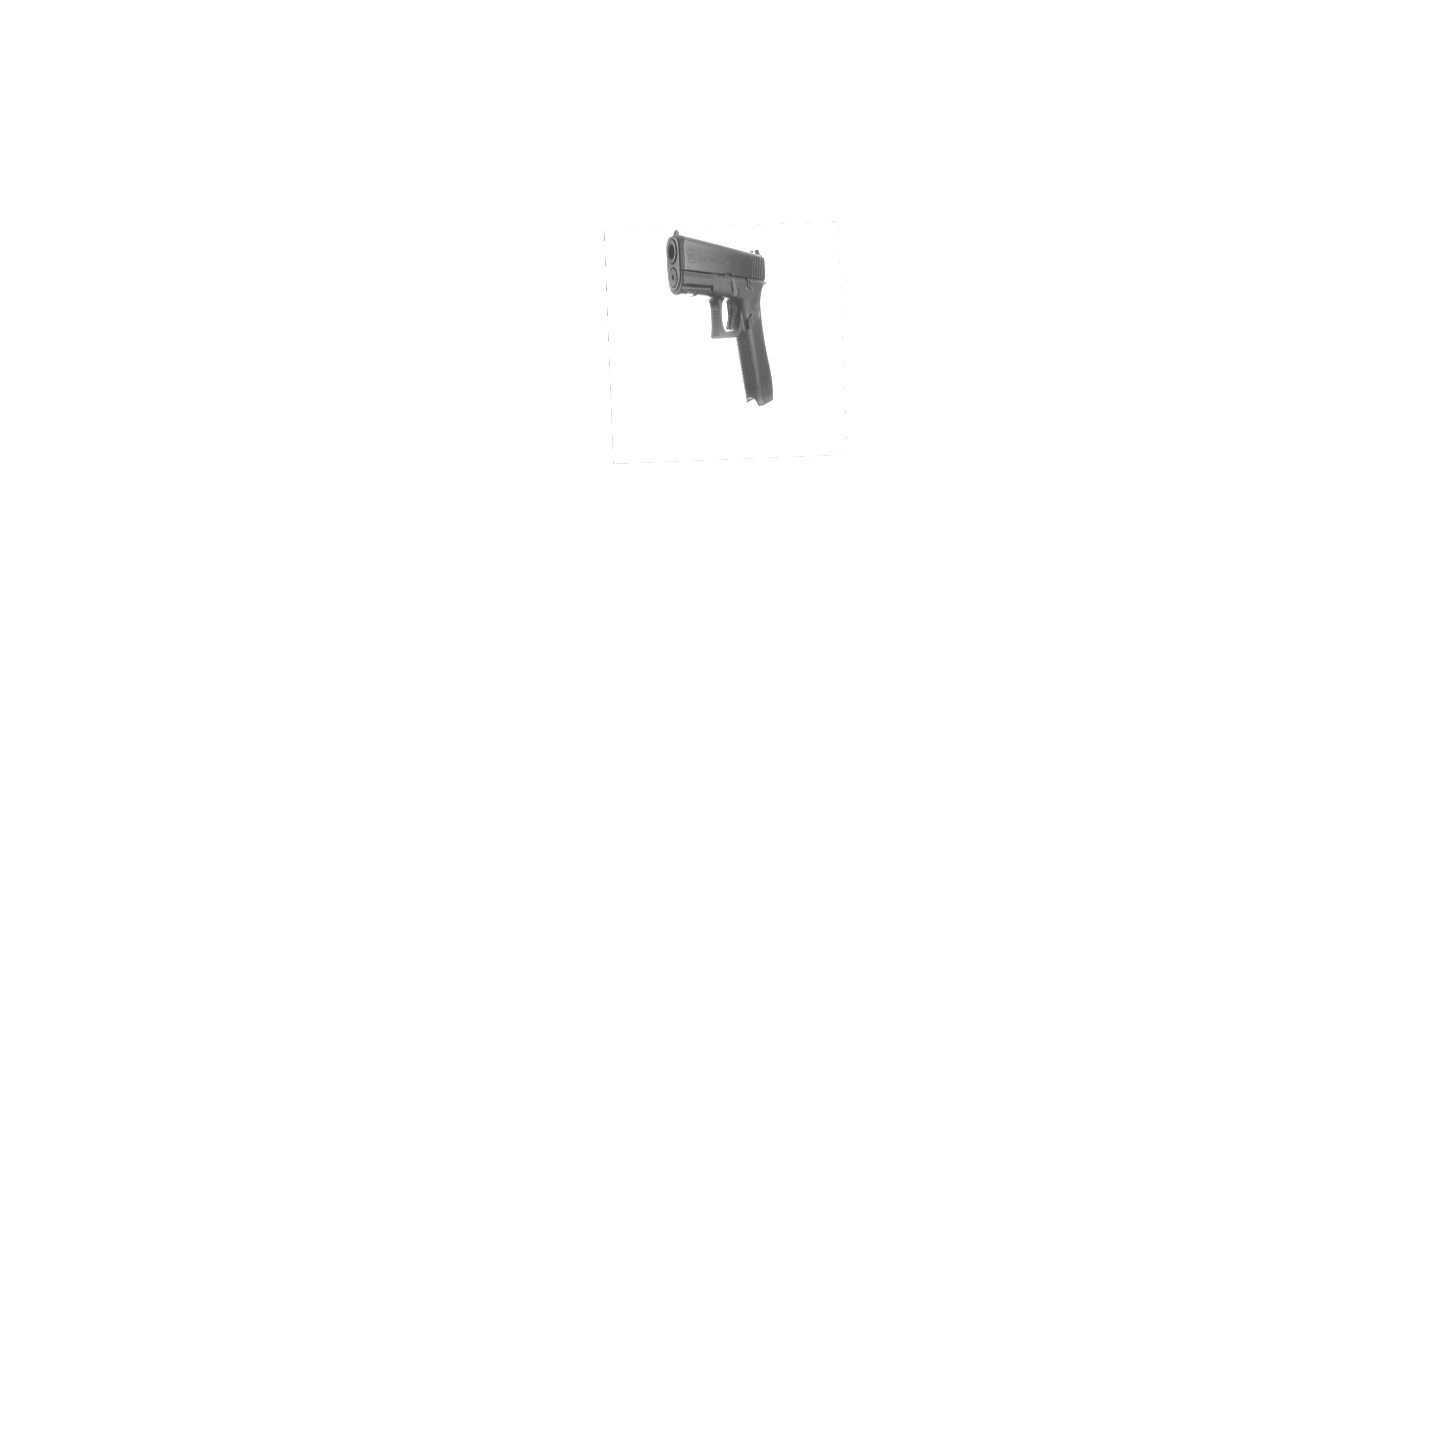gun: (661, 226, 784, 407)
